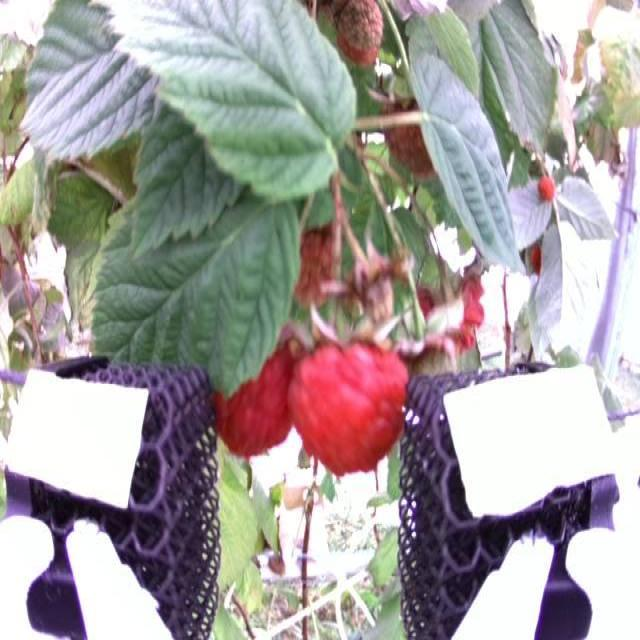Riped berries: (296, 330, 414, 470), (215, 314, 297, 452), (534, 172, 559, 206)
